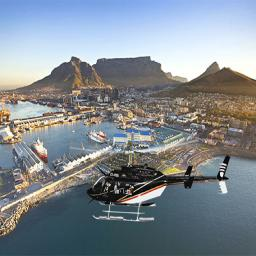helicopter: (88, 145, 234, 230)
